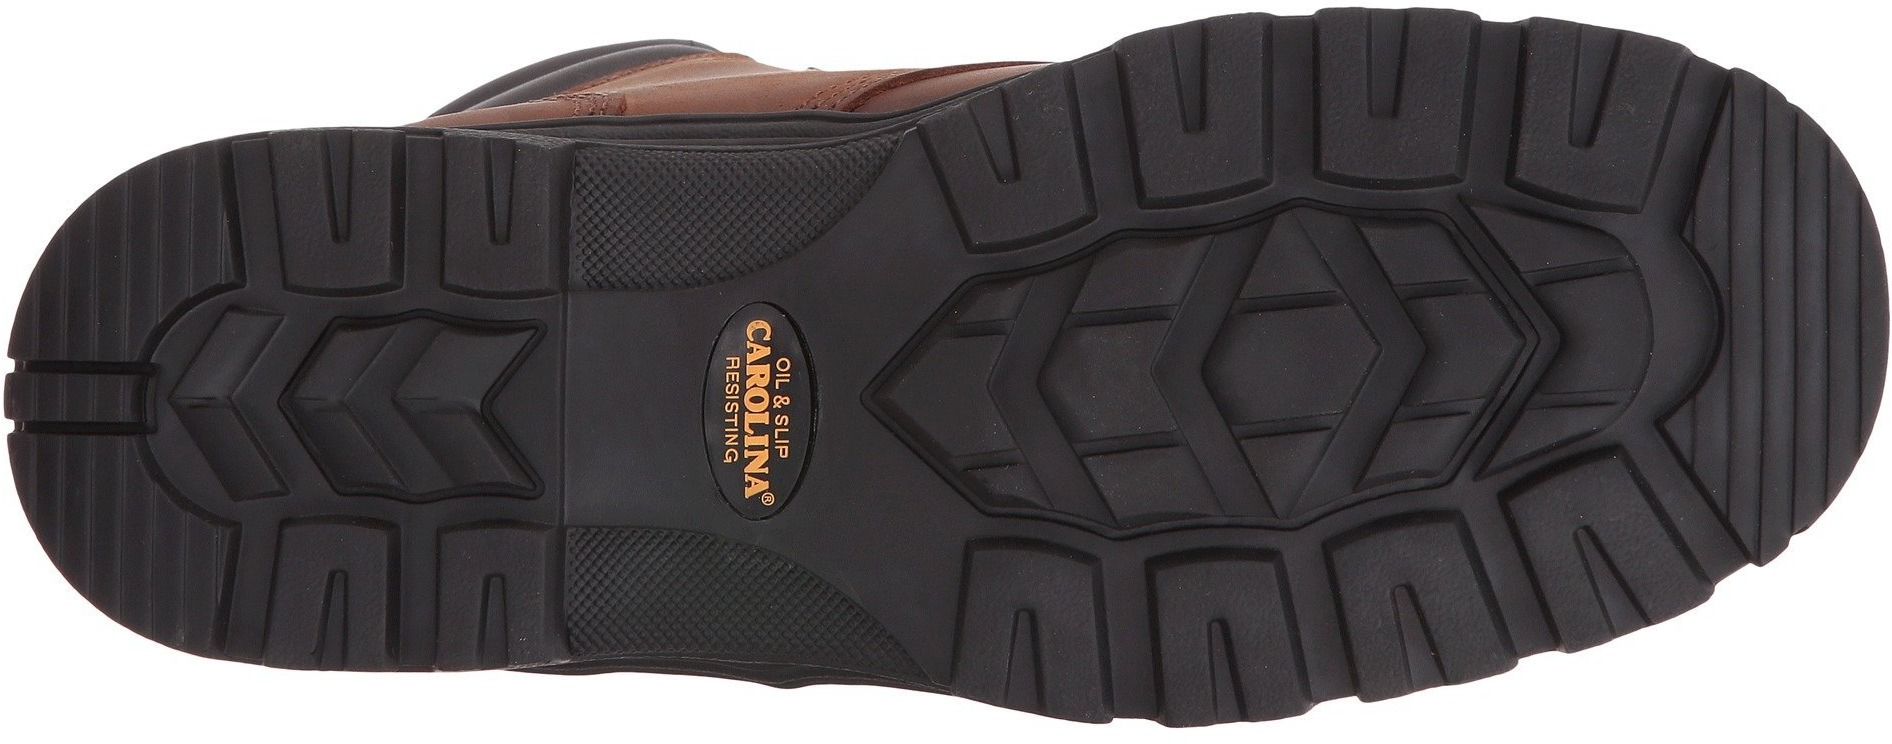chevron: (948, 254, 1236, 514), (214, 297, 421, 496), (1351, 254, 1555, 453)
circle: (648, 285, 864, 528)
exclude: (362, 13, 1094, 146)
quad: (1725, 176, 1878, 351), (1713, 358, 1840, 492), (586, 158, 719, 280), (68, 462, 186, 593), (570, 547, 703, 654)
text: (648, 285, 864, 528)
